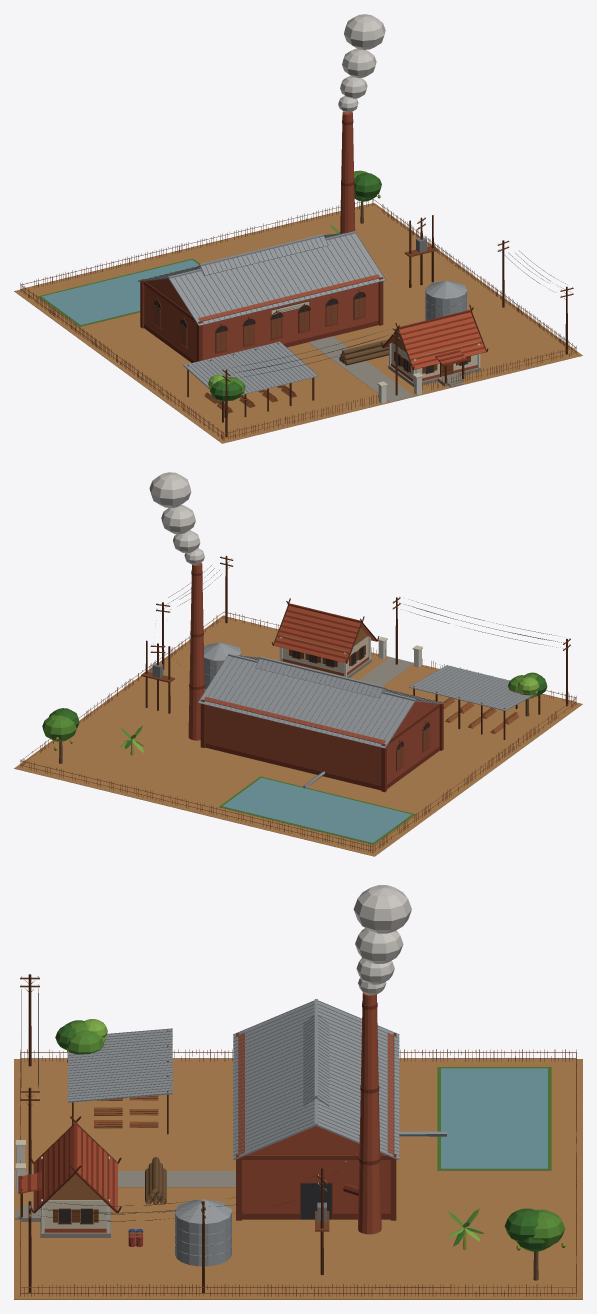
File: power_plant.glb
3 renders of one model, top to bottom at view 1: azimuth 30°, elevation 25°; view 2: azimuth 150°, elevation 25°; view 3: azimuth 270°, elevation 25°, orthographic. The views are drawn at different scales.
Visible parts, largest first — view 1: body, windows; view 2: body; view 3: body.
Boxes of the visible parts, left/top/right/bottom form: body: left=14, top=14, right=582, bottom=443; windows: left=154, top=292, right=466, bottom=372; body: left=14, top=472, right=582, bottom=856; body: left=14, top=885, right=582, bottom=1299.
Bounding box in the file's own units: 47.9 × 33.12 × 47.9.
